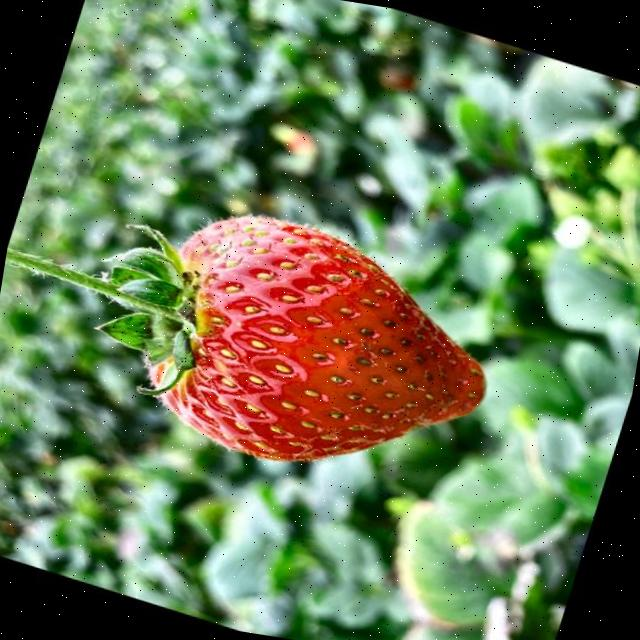strawberry: (6, 215, 484, 460)
